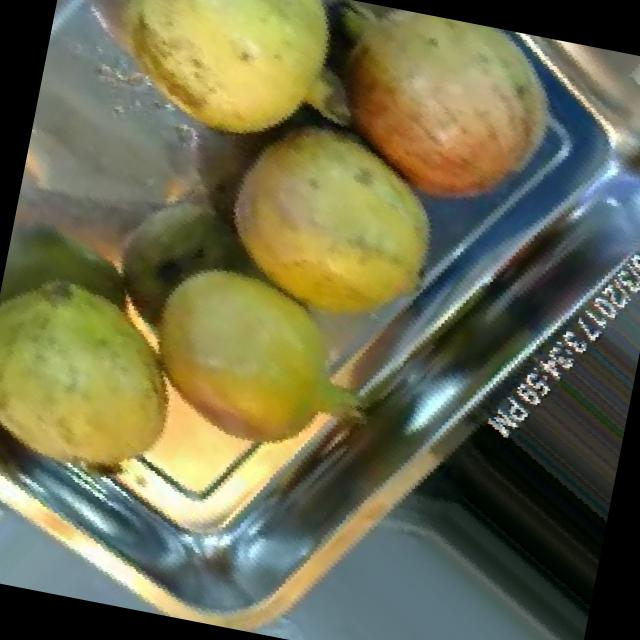fruit: (178, 86, 462, 358), (92, 0, 379, 188)
